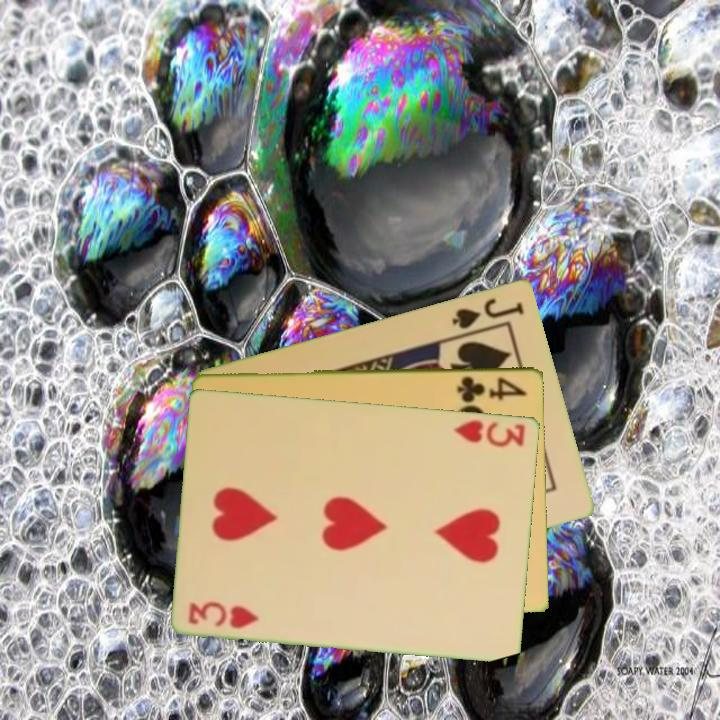3h: (451, 415, 528, 450), (185, 598, 262, 632)
4c: (454, 372, 529, 404)
Js: (448, 294, 527, 332)
